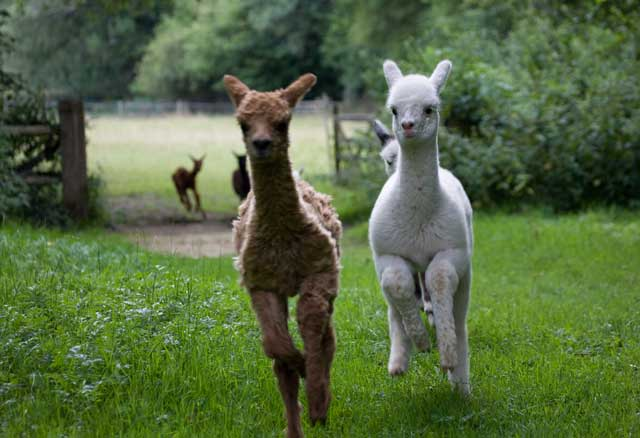alpaca: (219, 71, 345, 438), (369, 56, 474, 401), (171, 154, 209, 220)
